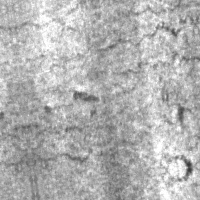crazing: (54, 0, 199, 66), (23, 83, 111, 177)
